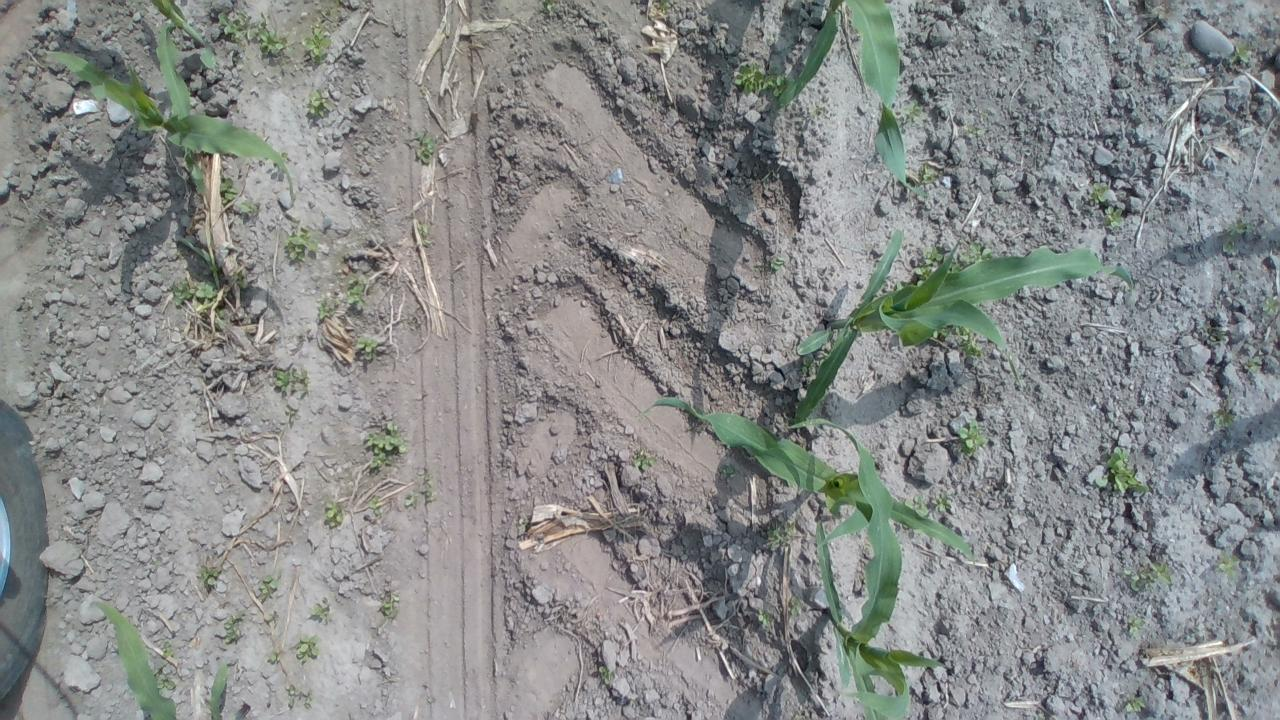Maize: (796, 228, 1136, 426), (636, 397, 979, 570), (790, 418, 956, 720), (40, 23, 298, 201), (774, 0, 930, 199), (91, 597, 248, 720), (148, 0, 217, 118)
Weeds: (215, 8, 298, 63), (1093, 446, 1149, 494), (732, 62, 796, 100), (364, 421, 406, 470), (1124, 556, 1172, 593), (284, 217, 319, 263), (956, 418, 990, 456), (913, 246, 943, 287), (304, 22, 332, 63), (954, 322, 983, 358), (273, 367, 309, 393), (304, 86, 332, 119), (1220, 219, 1246, 251), (346, 274, 370, 308), (766, 521, 794, 549), (223, 610, 246, 643), (354, 334, 380, 362), (414, 131, 436, 164), (960, 242, 994, 263), (899, 98, 926, 124), (632, 446, 658, 472), (1218, 550, 1240, 579), (904, 493, 930, 517), (170, 280, 194, 306), (296, 634, 320, 660), (154, 668, 177, 695), (218, 175, 239, 204), (316, 296, 341, 320), (1214, 399, 1236, 426), (324, 502, 345, 530), (419, 472, 436, 503), (197, 564, 221, 585), (380, 593, 399, 619), (1228, 42, 1250, 64), (1088, 181, 1110, 203), (196, 278, 218, 298), (1103, 206, 1125, 226), (309, 602, 330, 622), (931, 490, 951, 511), (920, 162, 939, 184), (1124, 693, 1146, 712), (1128, 616, 1146, 638), (418, 218, 432, 246), (260, 574, 278, 595), (596, 666, 614, 686), (232, 268, 248, 290), (1261, 296, 1280, 314), (800, 354, 816, 375), (213, 308, 227, 330), (962, 122, 984, 136), (929, 326, 952, 339), (756, 608, 772, 626), (239, 199, 258, 214), (368, 494, 382, 514), (720, 463, 737, 479), (770, 256, 786, 271), (541, 0, 557, 14), (1244, 356, 1260, 370), (816, 353, 829, 370), (162, 640, 174, 658), (288, 684, 297, 708), (946, 262, 964, 274), (172, 245, 188, 258), (284, 404, 296, 421), (790, 598, 801, 616), (1209, 330, 1226, 341), (656, 0, 670, 13), (404, 496, 416, 508), (811, 105, 822, 117), (268, 652, 280, 662), (304, 694, 312, 708), (278, 152, 290, 160), (895, 282, 905, 290), (266, 612, 275, 620), (1180, 62, 1187, 68), (793, 716, 799, 720)
